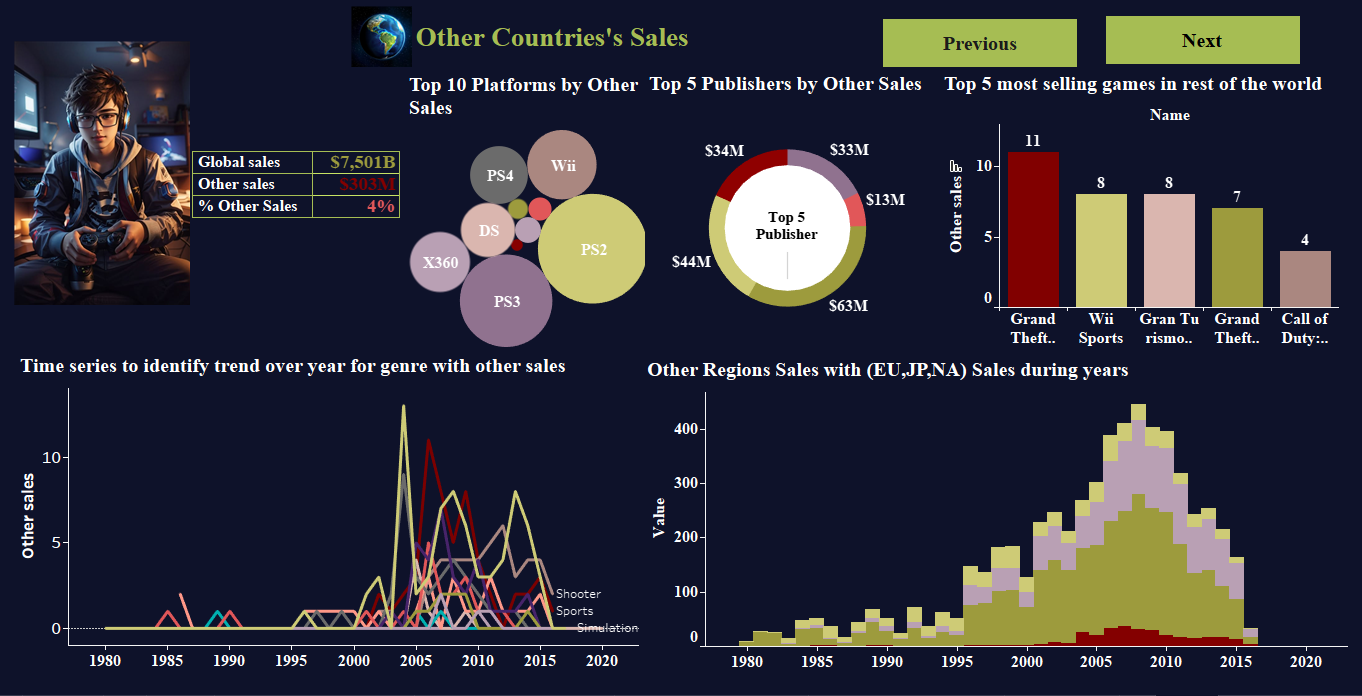

The page's visual inventory and layout, read from the dashboard file:
{"tool":"tableau","page":{"name":"Other","canvas":[1000,1000],"units":"permille","ordinal":7},"visuals":[{"type":"image","box":[258.9,12.7,85.7,87.3]},{"type":"text","box":[304.8,25.4,248.5,61.8]},{"type":"dashboard-object","box":[812.1,27.3,142,69.1]},{"type":"dashboard-object","box":[648.5,30.9,142,69.1]},{"type":"image","param":"Image/4db48e155c95b8d7d8ff2e3ef6f7aee3.jpg","box":[12.1,63.6,129,430.9]},{"type":"worksheet","title":"Top 5 Publishers by Other Sales","mark":"Pie","rows":["Other sales","Other sales"],"box":[474.5,101.8,208.7,403.6]},{"type":"worksheet","title":"Top 5 most selling games in rest of the world","mark":"Automatic","rows":["Other sales"],"cols":["Name"],"box":[690,101.8,292.6,400]},{"type":"worksheet","title":"Top 10 Platform by Other Sales","mark":"Circle","box":[298.7,103.6,181.8,398.2]},{"type":"worksheet","title":"Info","mark":"Automatic","box":[142.9,220,152.4,123.6]},{"type":"worksheet","title":"Time series to identify trend over year for genre with other sales","mark":"Automatic","rows":["Other sales"],"cols":["Year"],"box":[13.8,505.4,456.3,467.3]},{"type":"worksheet","title":"sales Comparison","mark":"Bar","cols":["Year"],"box":[472.7,510.9,516,458.2]}]}

Visuals, with their boxes on the dashboard's canvas, which has no fixed pixel size, in thousandths of its width and height (x1, y1, x2, y2). These are canvas units, not pixel positions in the 1362x696 screenshot, which may show the page scaled, cropped or inside an application window:
image: box(259, 13, 345, 100)
text: box(305, 25, 553, 87)
dashboard-object: box(812, 27, 954, 96)
dashboard-object: box(648, 31, 790, 100)
image: box(12, 64, 141, 494)
"Top 5 Publishers by Other Sales" worksheet (Pie marks): box(474, 102, 683, 505)
"Top 5 most selling games in rest of the world" worksheet: box(690, 102, 983, 502)
"Top 10 Platform by Other Sales" worksheet (Circle marks): box(299, 104, 480, 502)
"Info" worksheet: box(143, 220, 295, 344)
"Time series to identify trend over year for genre with other sales" worksheet: box(14, 505, 470, 973)
"sales Comparison" worksheet (Bar marks): box(473, 511, 989, 969)
